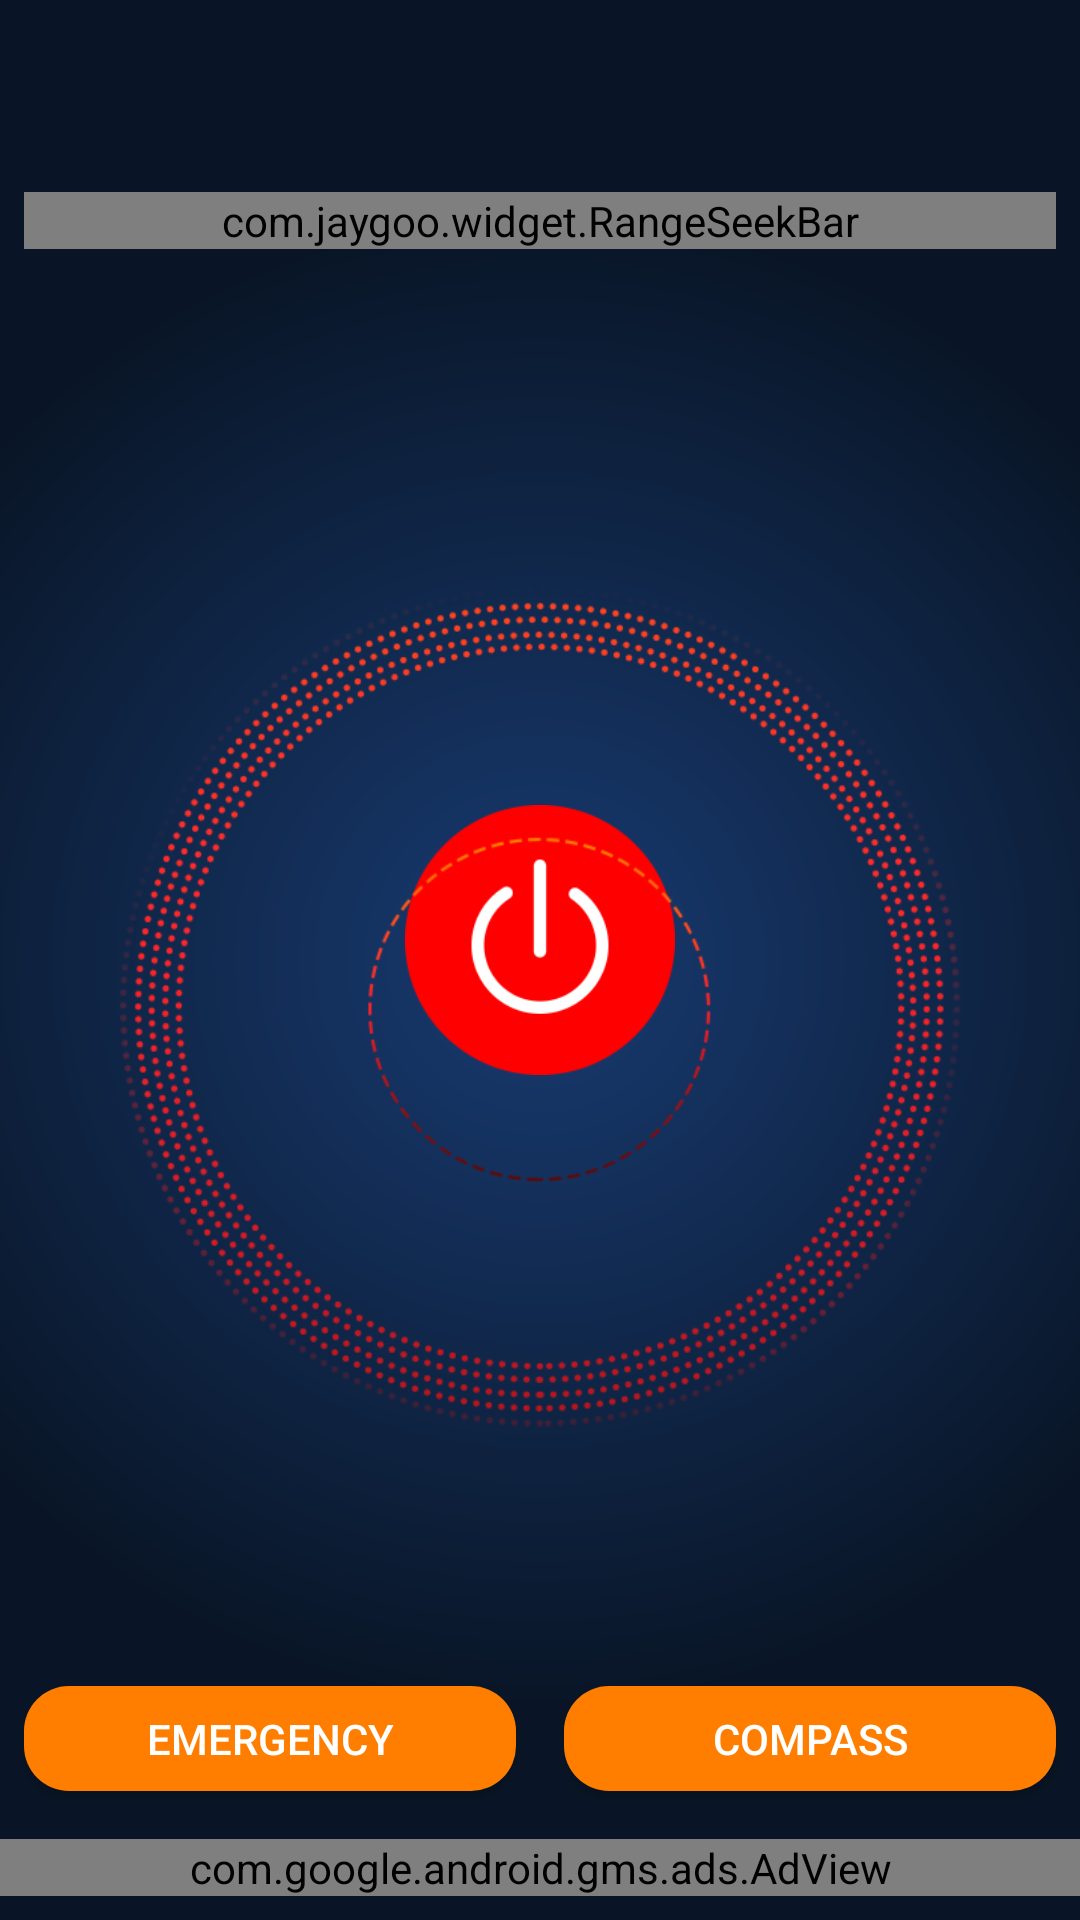

Where to tap for icons on this 1080px×1920px app screen, as (x=x, y=y):
turn off: (x=540, y=940)
